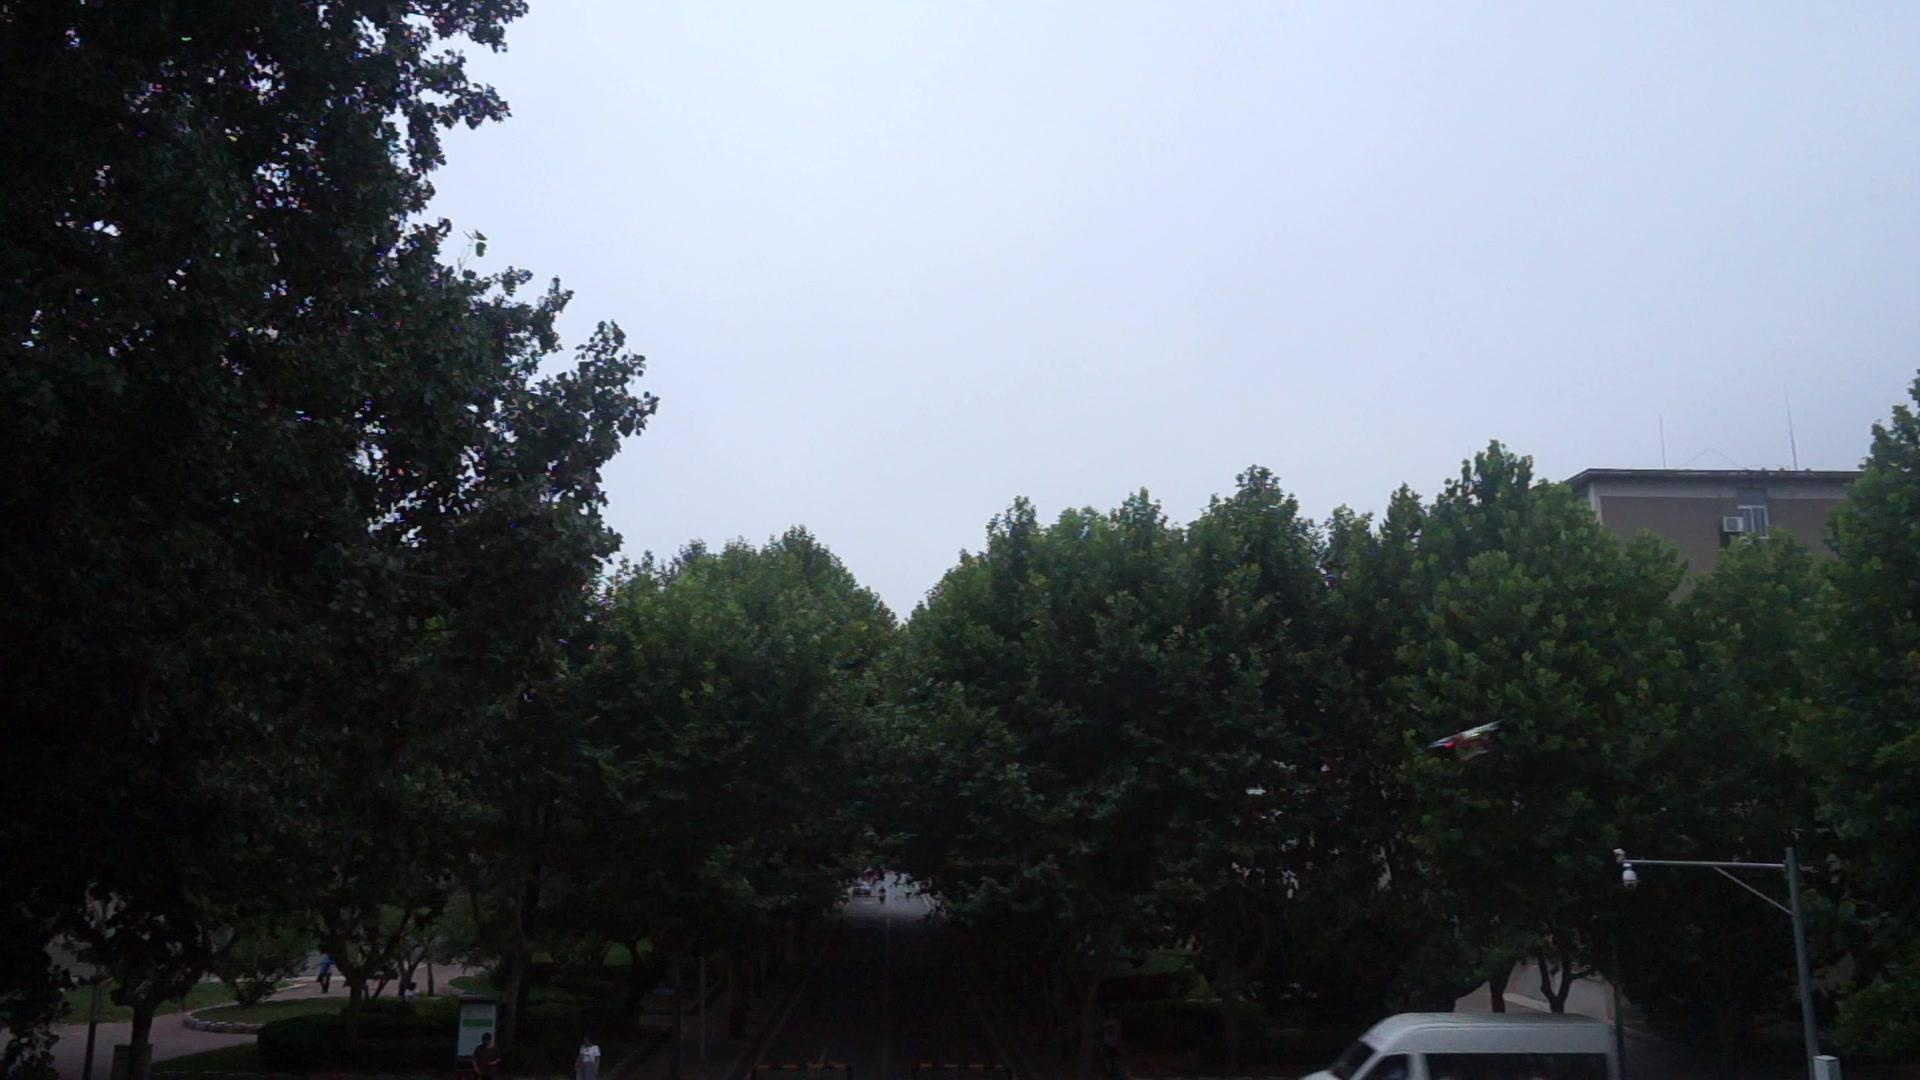UAV: (1429, 721, 1502, 761)
